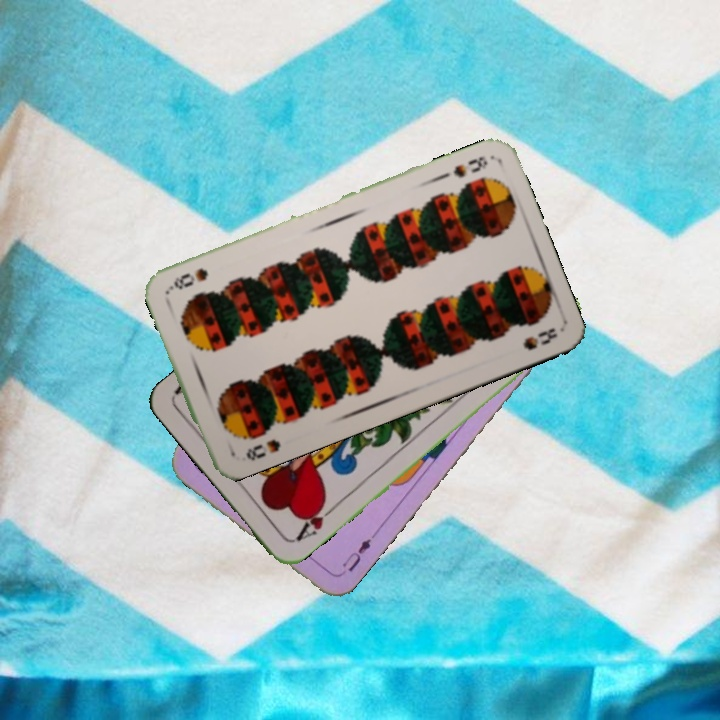EU: (338, 530, 378, 575)
HA: (291, 496, 339, 544)
S8: (448, 152, 490, 181), (242, 435, 283, 463)
